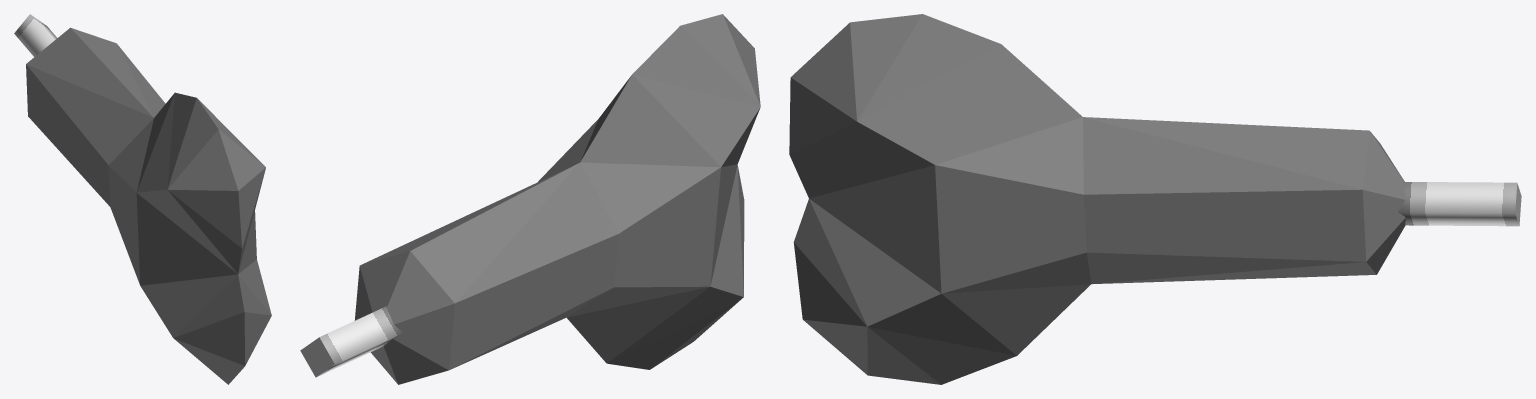
File: sticklight_pnk.dae
The picture shows the model from 3 angles, left to right: view 1: azimuth 30°, elevation 25°; view 2: azimuth 150°, elevation 25°; view 3: azimuth 270°, elevation 25°; orthographic projection. The views are drawn at different scales.
Parts seen in each view (by area): view 1: sticklight_pnk; view 2: sticklight_pnk; view 3: sticklight_pnk.
Boxes of the visible parts, x1=… form: sticklight_pnk: x1=14, y1=14, x2=271, y2=384; sticklight_pnk: x1=300, y1=14, x2=760, y2=384; sticklight_pnk: x1=789, y1=14, x2=1521, y2=384.
Bounding box in the file's own units: 5.85 × 11.05 × 20.38.
2 materials, 1 textured.
